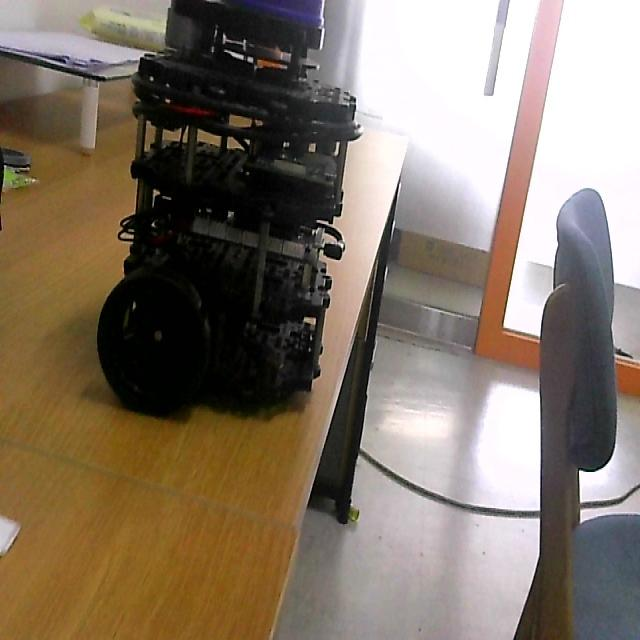turtle: (94, 0, 364, 427)
